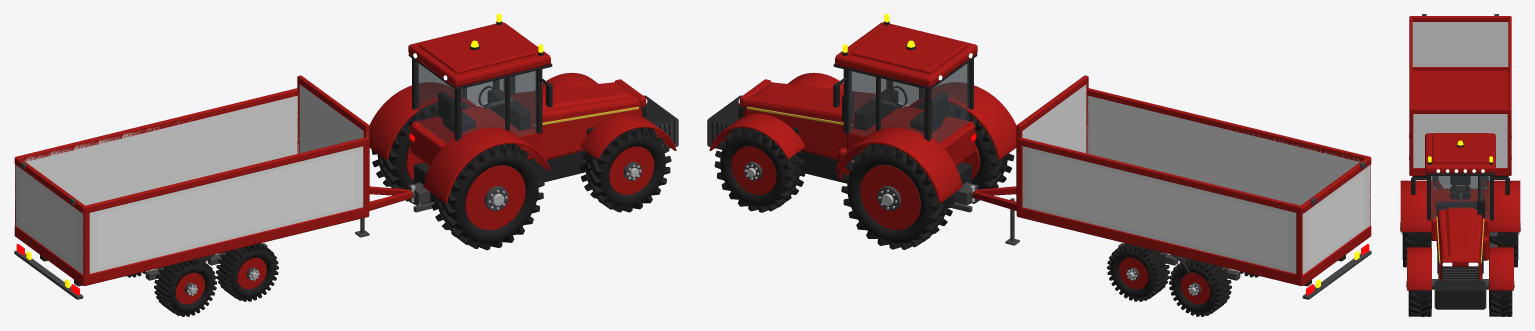
The model's file is trattore_rimorchio.glb.
The picture shows the model from 3 angles, left to right: view 1: azimuth 30°, elevation 25°; view 2: azimuth 150°, elevation 25°; view 3: azimuth 270°, elevation 25°; orthographic projection. The views are drawn at different scales.
Parts seen in each view (by area): view 1: Sponda_1, LOGO_Lato_Destro, Vetro_Lato_-1, Sponda_-1, Cofano, Trattore_RuotaPost_DX_pneumatico, Sponda_Bordo_Inf_-1, Tetto_Calotta, Parafango_Post_-1, LOGO_Posteriore, Trattore_RuotaPost_DX_flangia, Parafango_Post_1 (+34 smaller); view 2: Sponda_-1, LOGO_Lato_Sinistro, Vetro_Lato_1, Sponda_1, Cofano, Trattore_RuotaPost_SX_pneumatico, Sponda_Bordo_Inf_1, Tetto_Calotta, Parafango_Post_1, LOGO_Posteriore, Trattore_RuotaPost_SX_flangia, Parafango_Post_-1 (+33 smaller); view 3: Sponda_Post, Pianale, Sponda_Ant, Vetro_Ant, Tetto_Calotta, Parafango_Post_1, Parafango_Post_-1, Zavorra_Ant, Cofano_Cupola, Tetto, Parafango_Ant_1, Parafango_Ant_-1 (+31 smaller).
Boxes of the visible parts, x1,y1,x2,y2 form: Sponda_1: (15,95,298,225); LOGO_Lato_Destro: (98,152,354,267); Vetro_Lato_-1: (461,71,536,136); Sponda_-1: (82,146,363,273); Cofano: (515,82,641,162); Trattore_RuotaPost_DX_pneumatico: (437,145,538,244); Sponda_Bordo_Inf_-1: (83,207,368,285); Tetto_Calotta: (418,24,535,73); Parafango_Post_-1: (423,125,550,203); LOGO_Posteriore: (21,173,76,265); Trattore_RuotaPost_DX_flangia: (465,165,525,229); Parafango_Post_1: (369,82,478,159); Sponda_-1: (1087,95,1370,225); LOGO_Lato_Sinistro: (1031,152,1287,267); Vetro_Lato_1: (849,70,924,136); Sponda_1: (1022,146,1303,274); Cofano: (744,82,875,159); Trattore_RuotaPost_SX_pneumatico: (847,144,948,244); Sponda_Bordo_Inf_1: (1017,207,1302,285); Tetto_Calotta: (850,24,967,73); Parafango_Post_1: (835,125,962,203); LOGO_Posteriore: (1309,173,1364,265); Trattore_RuotaPost_SX_flangia: (860,165,920,229); Parafango_Post_-1: (907,82,1016,159); Sponda_Post: (1412,22,1508,66); Pianale: (1412,70,1508,107); Sponda_Ant: (1413,114,1507,167); Vetro_Ant: (1431,176,1489,218); Tetto_Calotta: (1432,133,1488,163); Parafango_Post_1: (1487,180,1520,232); Parafango_Post_-1: (1400,180,1433,232); Zavorra_Ant: (1435,280,1485,309); Cofano_Cupola: (1445,207,1475,257); Tetto: (1425,133,1495,173); Parafango_Ant_1: (1489,247,1513,290); Parafango_Ant_-1: (1407,247,1431,290).
Size of the model in its own units: 12.98 by 3.53 by 3.
